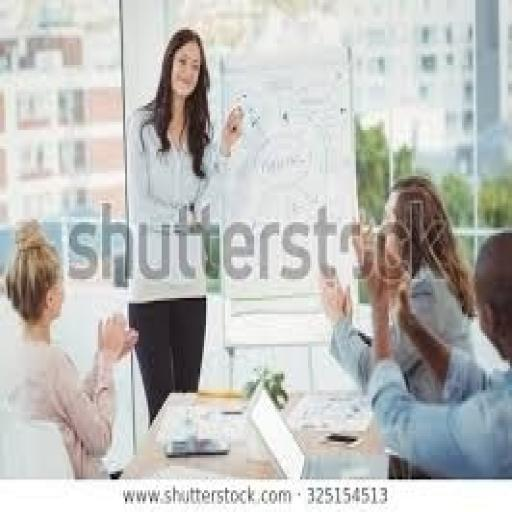clapping: (287, 125, 512, 509), (0, 216, 139, 480)
